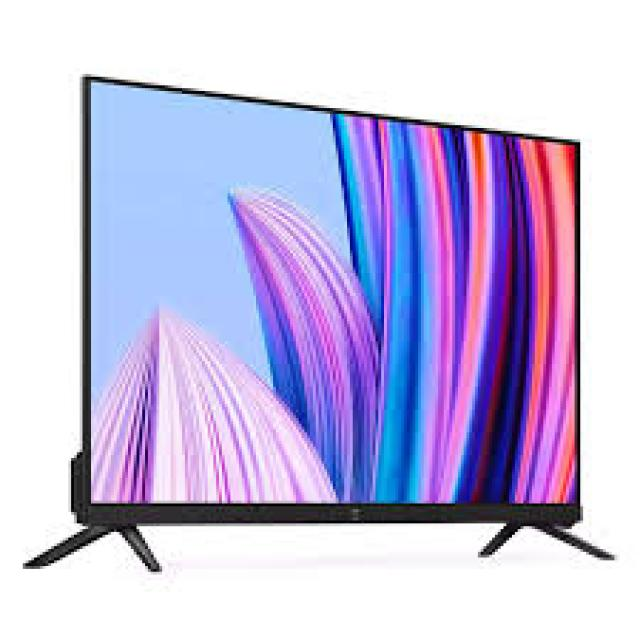tv: (66, 71, 618, 608)
